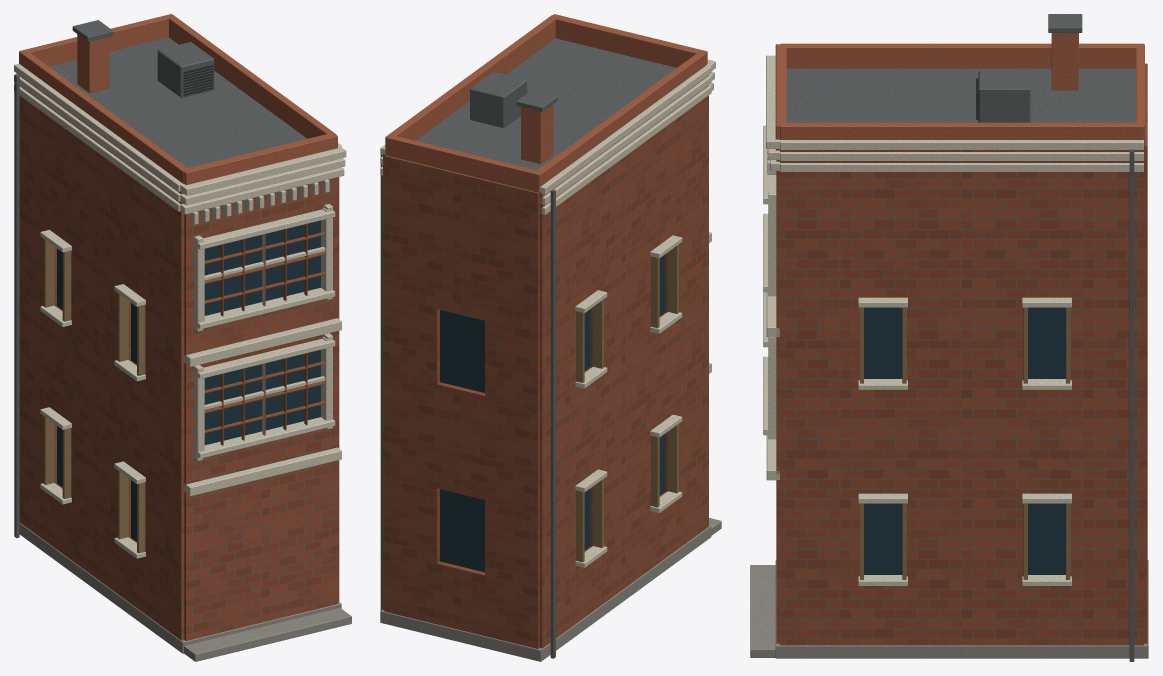
File: WRHS3_lod1.glb
3 views of the same model, side by side, from view 1: azimuth 30°, elevation 25°; view 2: azimuth 150°, elevation 25°; view 3: azimuth 270°, elevation 25° (orthographic). The views are drawn at different scales.
Visible parts, largest first — view 1: WRHS3_LOD1; view 2: WRHS3_LOD1; view 3: WRHS3_LOD1.
Boxes of the visible parts, x1,y1,x2,y2 form: WRHS3_LOD1: (14, 14, 351, 661); WRHS3_LOD1: (380, 14, 721, 661); WRHS3_LOD1: (750, 14, 1148, 661).
Size of the model in its own units: 3.71 by 10.45 by 6.57.
Materials: 10 (8 with a texture image).
